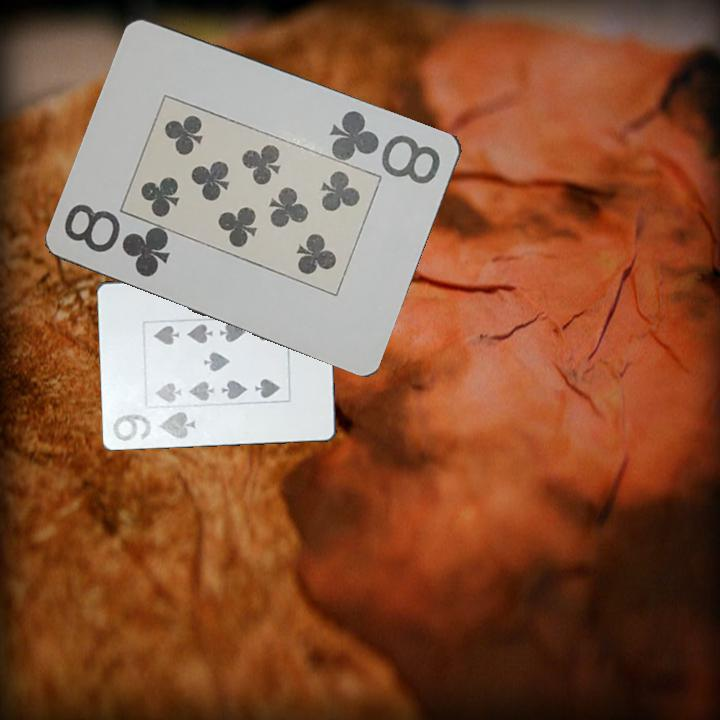8c: (326, 106, 444, 187), (61, 200, 174, 280)
9s: (110, 407, 198, 443)
